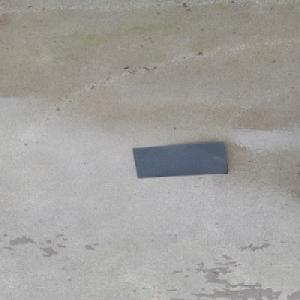PaintChip: (132, 140, 229, 178)
